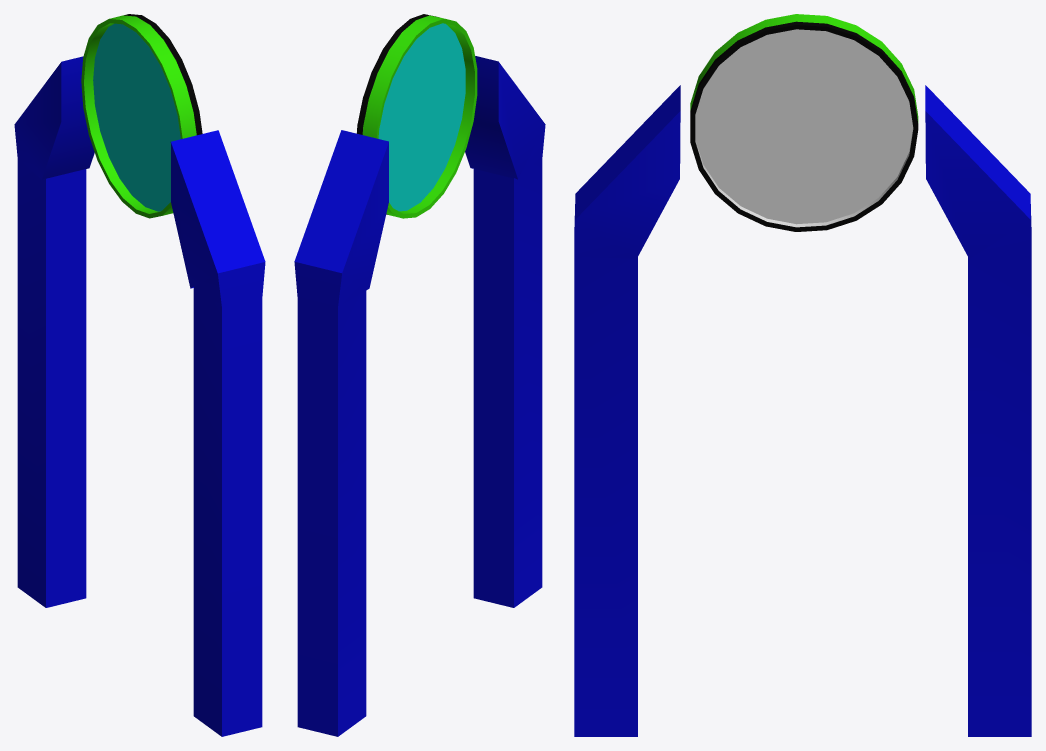
The model's file is Portal 2.fbx.
3 views of the same model, side by side, from view 1: azimuth 30°, elevation 25°; view 2: azimuth 150°, elevation 25°; view 3: azimuth 270°, elevation 25° (orthographic). The views are drawn at different scales.
Visible parts, largest first — view 1: portal; view 2: portal; view 3: portal.
Part boxes in pixels (x1,y1,x2,y2): portal: (14,14,265,736); portal: (294,14,545,736); portal: (574,14,1031,736).
Size of the model in its own units: 104 by 1322 by 774.
